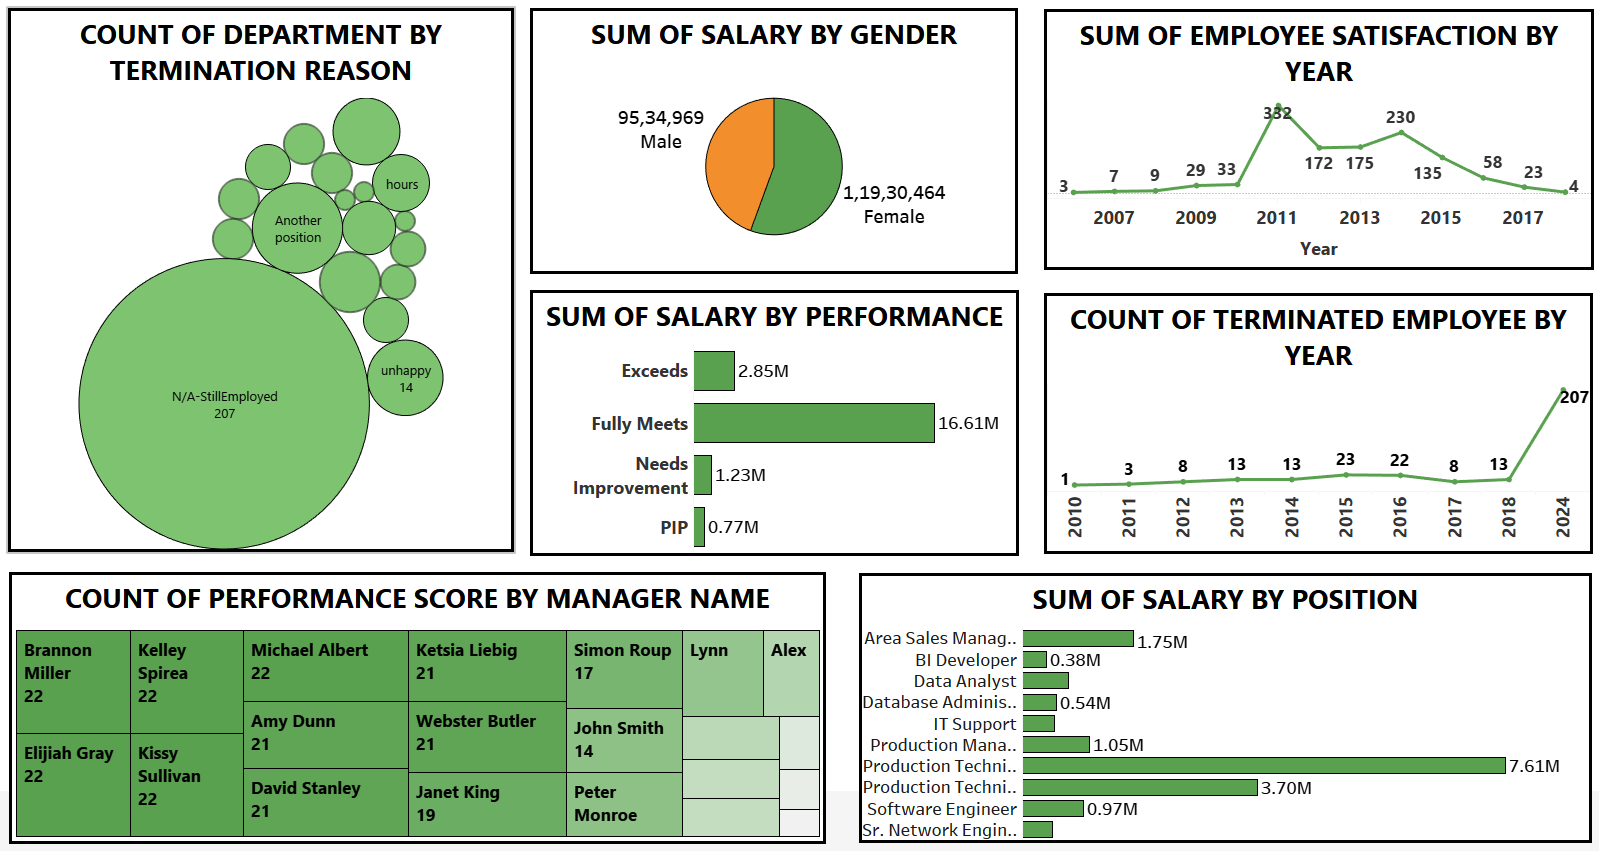

Layout of this report page (visuals, bound fields, positions):
{"tool":"tableau","page":{"name":"Dashboard 2","canvas":[1650,800],"ordinal":1},"visuals":[{"type":"worksheet","title":"Sheet 6","mark":"Circle","box":[19,17,506,544]},{"type":"worksheet","title":"Sheet 9","mark":"Pie","box":[541,17,488,266]},{"type":"worksheet","title":"Sheet 13","mark":"Automatic","rows":["EmpSatisfaction"],"cols":["DateofHire"],"box":[1055,18,550,261]},{"type":"worksheet","title":"Sheet 10","mark":"Automatic","rows":["PerformanceScore"],"cols":["Salary"],"box":[541,299,489,266]},{"type":"worksheet","title":"Sheet 14","mark":"Automatic","rows":["EmpID"],"cols":["DateofTermination"],"box":[1055,302,549,261]}]}

Visuals, with their boxes in screenshot pixels (x1, y1, x2, y2):
"Sheet 6" worksheet (Circle marks): box=[10, 9, 512, 548]
"Sheet 9" worksheet (Pie marks): box=[528, 9, 1011, 272]
"Sheet 13" worksheet: box=[1037, 10, 1582, 268]
"Sheet 10" worksheet: box=[528, 288, 1012, 551]
"Sheet 14" worksheet: box=[1037, 291, 1581, 550]
